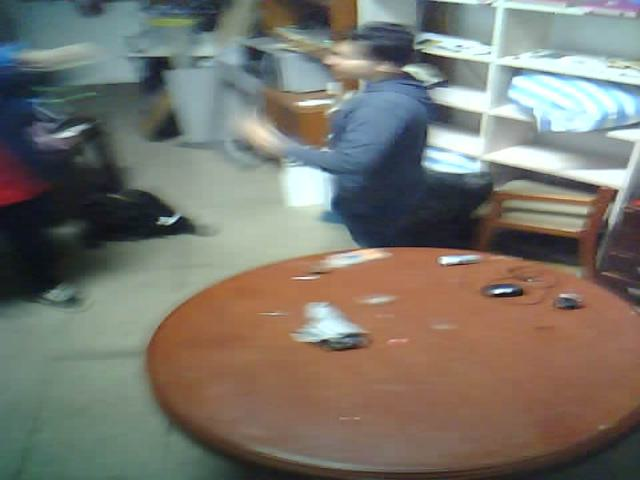person: (233, 7, 485, 289), (0, 45, 99, 336)
